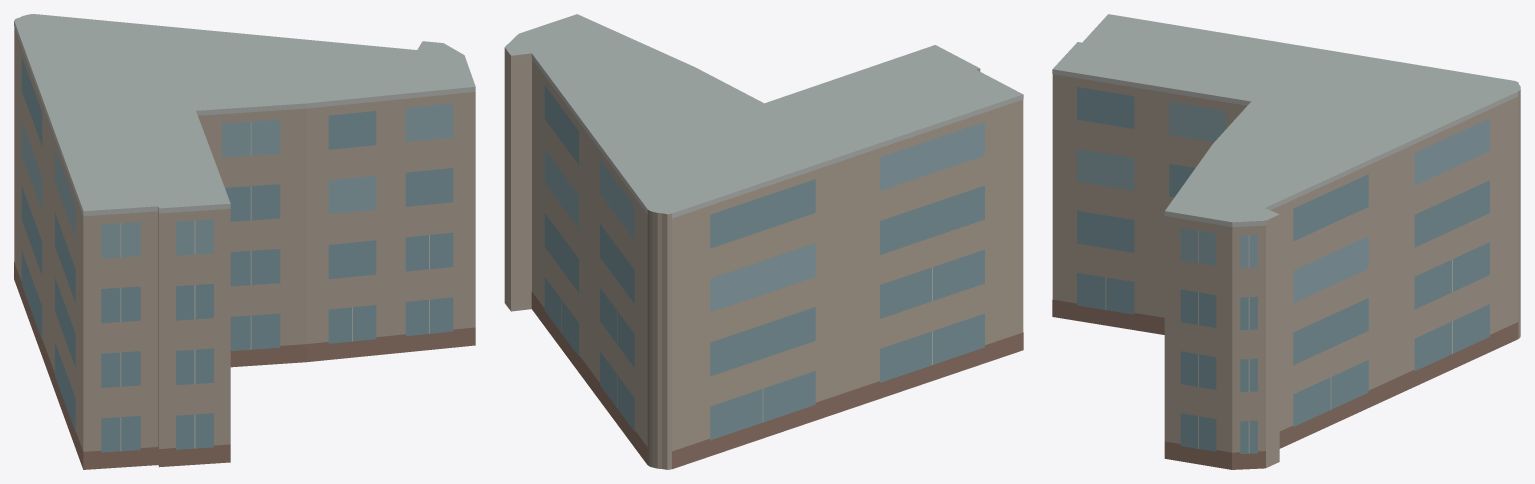
File: survey-upis-32645650.glb
The picture shows the model from 3 angles, left to right: view 1: azimuth 30°, elevation 25°; view 2: azimuth 150°, elevation 25°; view 3: azimuth 270°, elevation 25°; orthographic projection. The views are drawn at different scales.
Parts seen in each view (by area): view 1: survey-upis-32645650.tmp; view 2: survey-upis-32645650.tmp; view 3: survey-upis-32645650.tmp.
Part boxes in pixels (<box>): survey-upis-32645650.tmp: <box>14,14,475,469</box>; survey-upis-32645650.tmp: <box>504,14,1023,469</box>; survey-upis-32645650.tmp: <box>1052,14,1520,469</box>.
Bounding box in the file's own units: 22.47 × 12.45 × 21.33.
